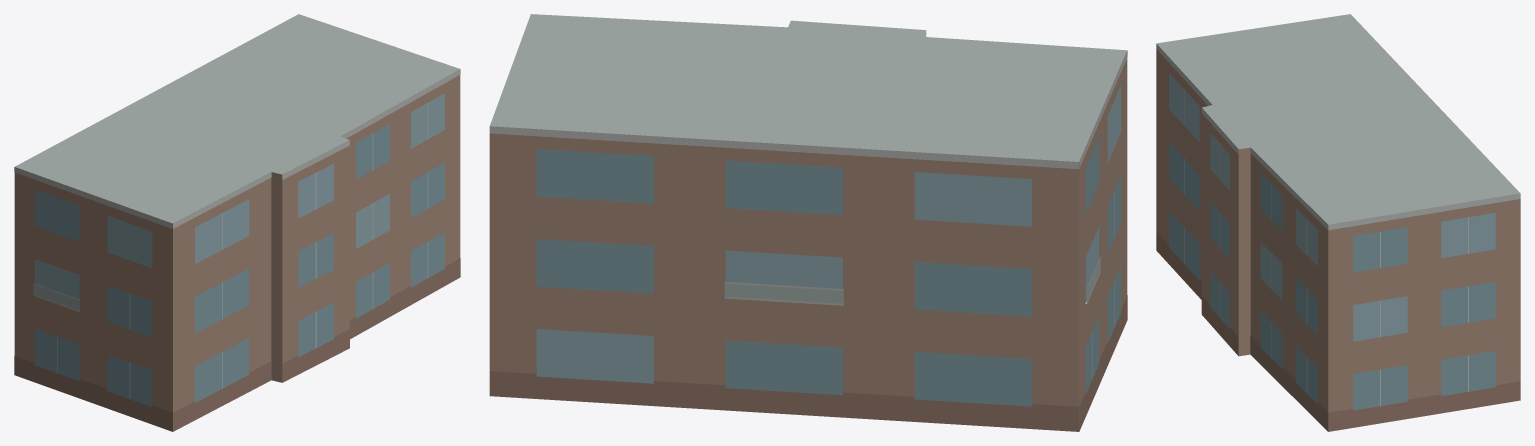
The model's file is survey-upis-32920576.glb.
3 views of the same model, side by side, from view 1: azimuth 30°, elevation 25°; view 2: azimuth 150°, elevation 25°; view 3: azimuth 270°, elevation 25° (orthographic). The views are drawn at different scales.
Parts seen in each view (by area): view 1: survey-upis-32920576.tmp; view 2: survey-upis-32920576.tmp; view 3: survey-upis-32920576.tmp.
Part boxes in pixels (left/top/right/bottom): survey-upis-32920576.tmp: left=14, top=14, right=460, bottom=431; survey-upis-32920576.tmp: left=489, top=14, right=1127, bottom=431; survey-upis-32920576.tmp: left=1156, top=14, right=1520, bottom=431.
Size of the model in its own units: 19.99 by 9.15 by 14.6.
